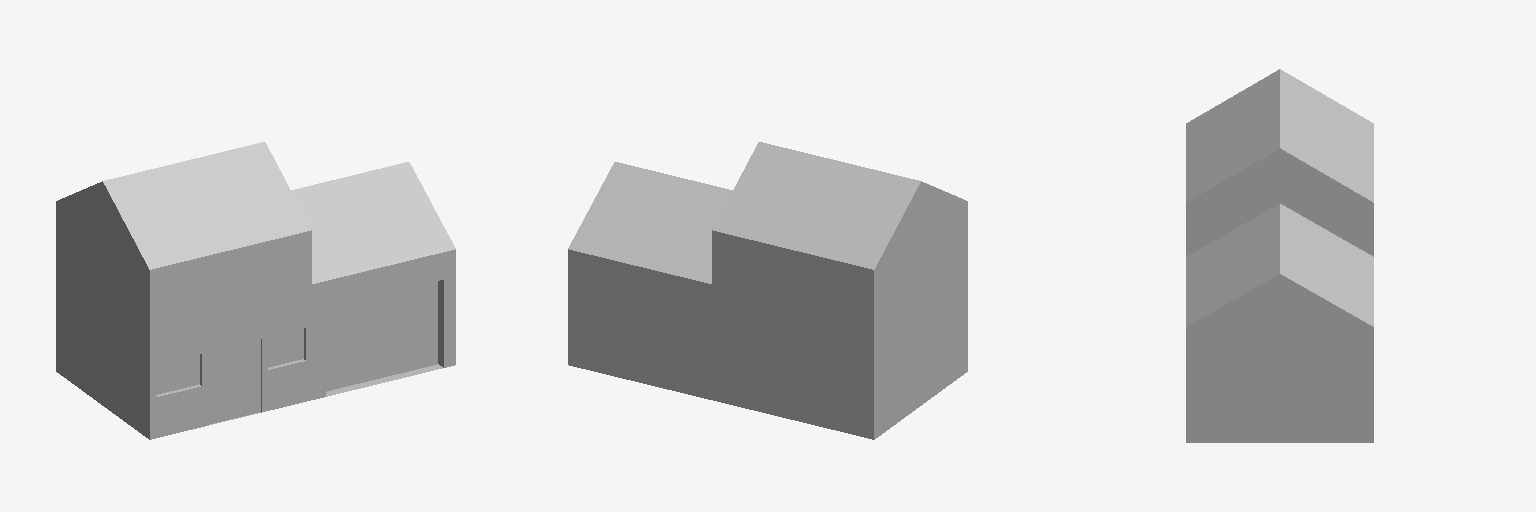
Rendered from house.obj.
3 views of the same model, side by side, from view 1: azimuth 30°, elevation 25°; view 2: azimuth 150°, elevation 25°; view 3: azimuth 270°, elevation 25° (orthographic).
Bounding box in the file's own units: 3.77 × 2.64 × 2.